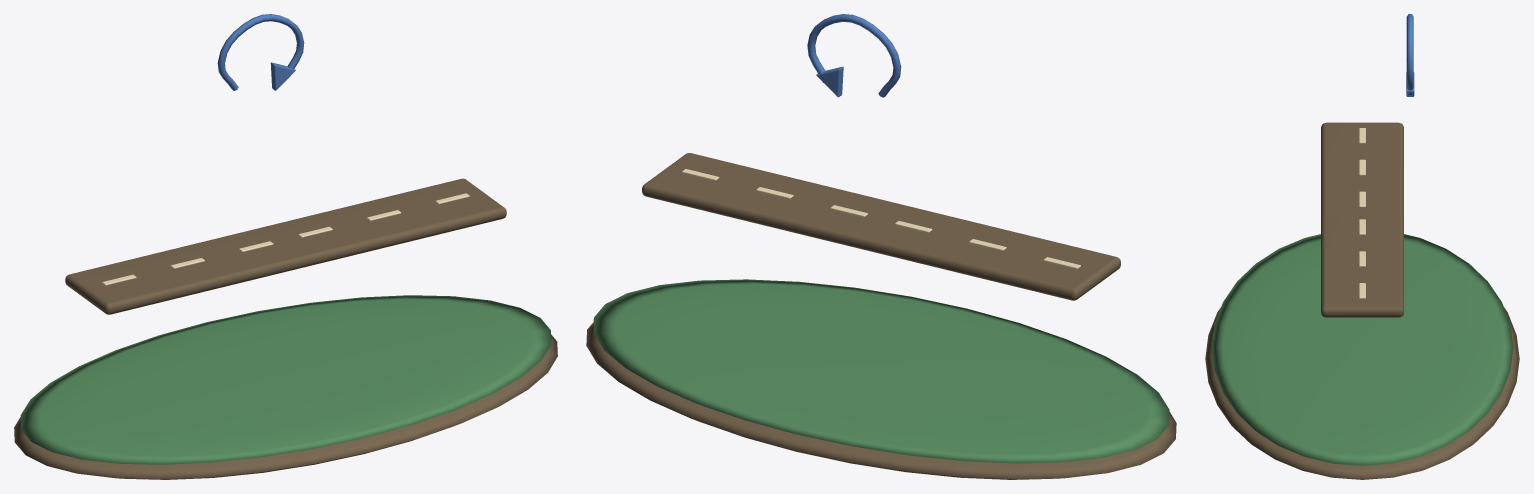
Rendered from complete-third-repeated-route-usually.glb.
The picture shows the model from 3 angles, left to right: view 1: azimuth 30°, elevation 25°; view 2: azimuth 150°, elevation 25°; view 3: azimuth 270°, elevation 25°; orthographic projection. The views are drawn at different scales.
Visible parts, largest first — view 1: complete-third-repeated-route-usually_surface_01, complete-third-repeated-route-usually_surface_00, complete-third-repeated-route-usually_surface_03, complete-third-repeated-route-usually_surface_02; view 2: complete-third-repeated-route-usually_surface_01, complete-third-repeated-route-usually_surface_00, complete-third-repeated-route-usually_surface_03, complete-third-repeated-route-usually_surface_02; view 3: complete-third-repeated-route-usually_surface_01, complete-third-repeated-route-usually_surface_00, complete-third-repeated-route-usually_surface_02, complete-third-repeated-route-usually_surface_03.
Part boxes in pixels (x1,y1,x2,y2): complete-third-repeated-route-usually_surface_01: (20, 295, 551, 464); complete-third-repeated-route-usually_surface_00: (14, 178, 557, 479); complete-third-repeated-route-usually_surface_03: (217, 14, 304, 90); complete-third-repeated-route-usually_surface_02: (102, 193, 469, 285); complete-third-repeated-route-usually_surface_01: (593, 279, 1169, 463); complete-third-repeated-route-usually_surface_00: (586, 153, 1176, 479); complete-third-repeated-route-usually_surface_03: (807, 14, 901, 97); complete-third-repeated-route-usually_surface_02: (682, 169, 1080, 269); complete-third-repeated-route-usually_surface_01: (1211, 234, 1513, 465); complete-third-repeated-route-usually_surface_00: (1205, 122, 1519, 479); complete-third-repeated-route-usually_surface_02: (1359, 128, 1365, 298); complete-third-repeated-route-usually_surface_03: (1406, 14, 1414, 96).
Bounding box in the file's own units: 4.56 × 3.13 × 2.5.
